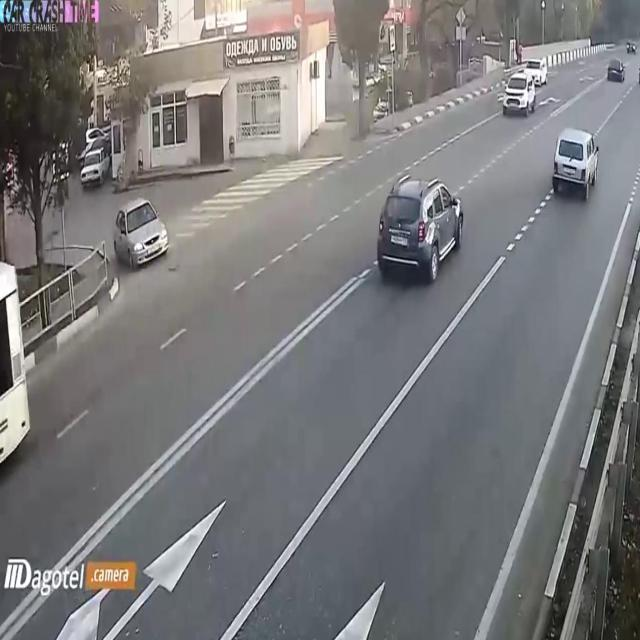non_accident: (497, 51, 551, 125)
